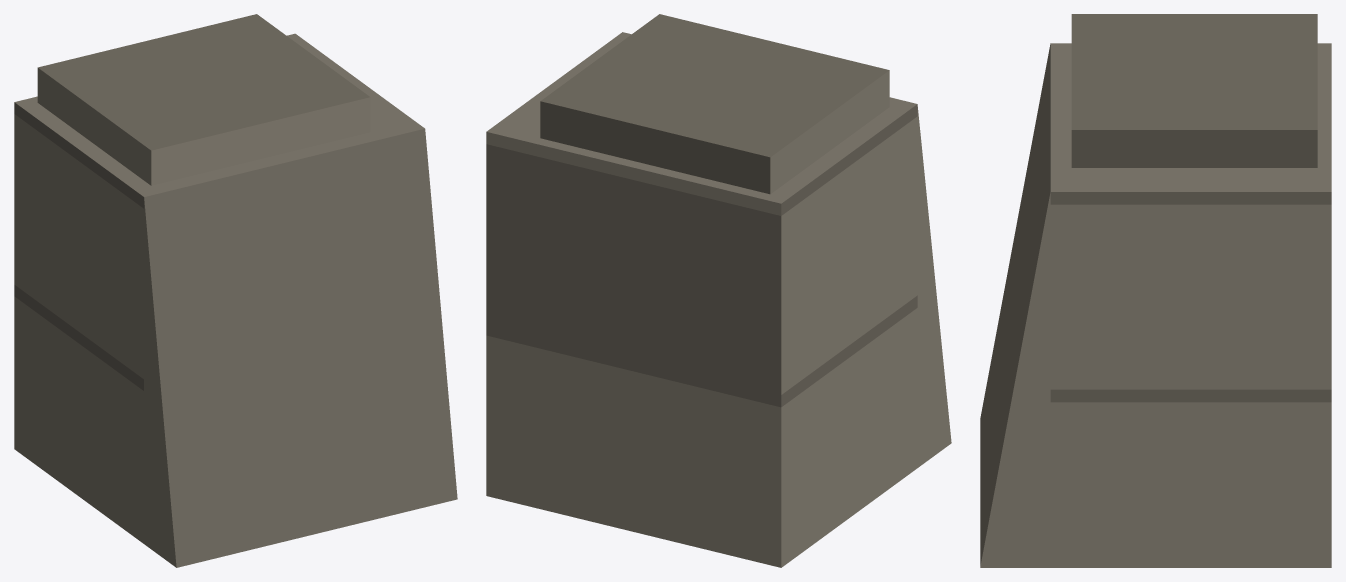
Rendered from terr_cliff.glb.
3 renders of one model, left to right at view 1: azimuth 30°, elevation 25°; view 2: azimuth 150°, elevation 25°; view 3: azimuth 270°, elevation 25°, orthographic. The views are drawn at different scales.
Parts seen in each view (by area): view 1: terr_cliff; view 2: terr_cliff; view 3: terr_cliff.
Boxes of the visible parts, box(x1,y1,x2,y2) form: terr_cliff: box(14, 14, 457, 567); terr_cliff: box(486, 14, 951, 567); terr_cliff: box(980, 14, 1331, 567).
Size of the model in its own units: 1 by 1.3 by 1.
Materials: 1 (1 with a texture image).
